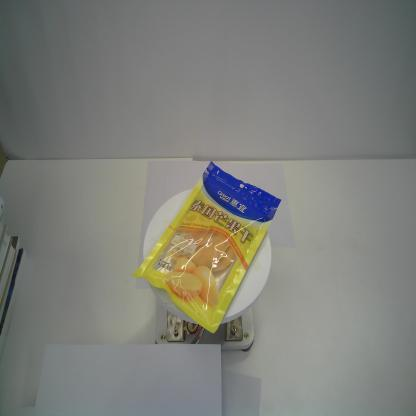Dried Fruit: (131, 158, 282, 337)
